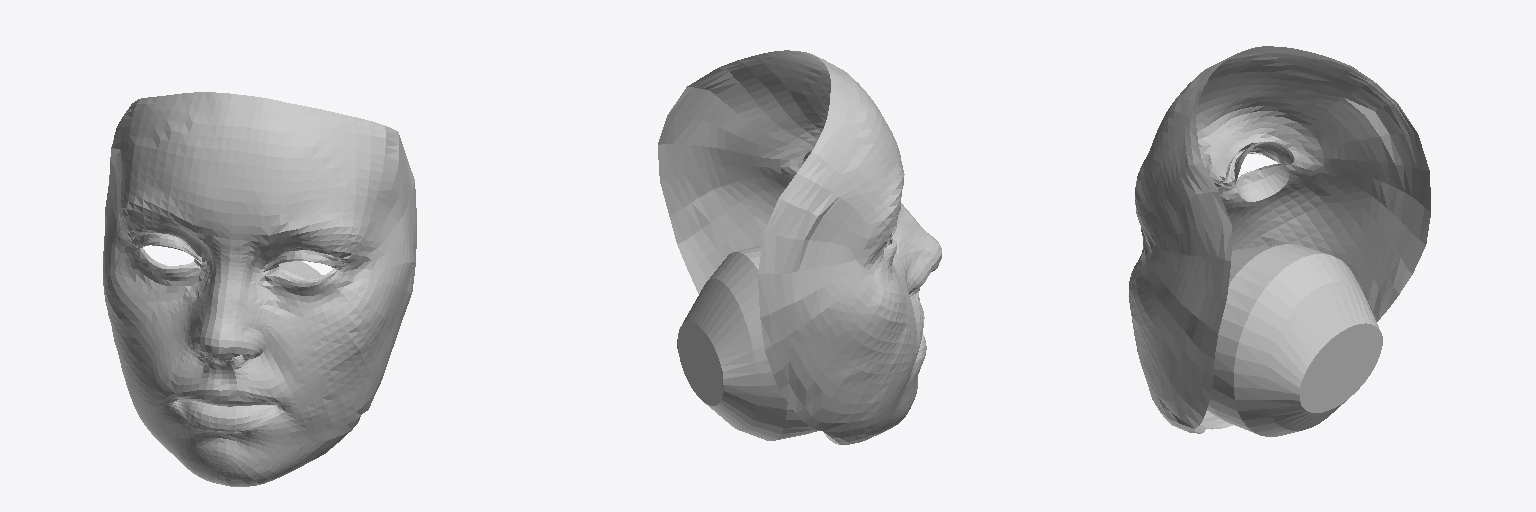
File: rotateL.obj
3 renders of one model, left to right at view 1: azimuth 30°, elevation 25°; view 2: azimuth 150°, elevation 25°; view 3: azimuth 270°, elevation 25°, orthographic.
Visible parts, largest first — view 1: face geoGroup Emily; view 2: face geoGroup Emily; view 3: face geoGroup Emily.
Part boxes in pixels (bbox=[...]): face geoGroup Emily: bbox=[103, 92, 416, 486]; face geoGroup Emily: bbox=[658, 50, 941, 444]; face geoGroup Emily: bbox=[1129, 46, 1430, 436].
Bounding box in the file's own units: 13.99 × 18.38 × 13.59.